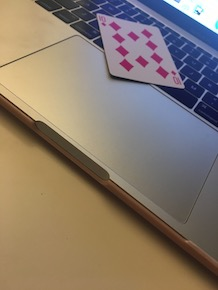TenOfDiamonds: (94, 12, 186, 88)
